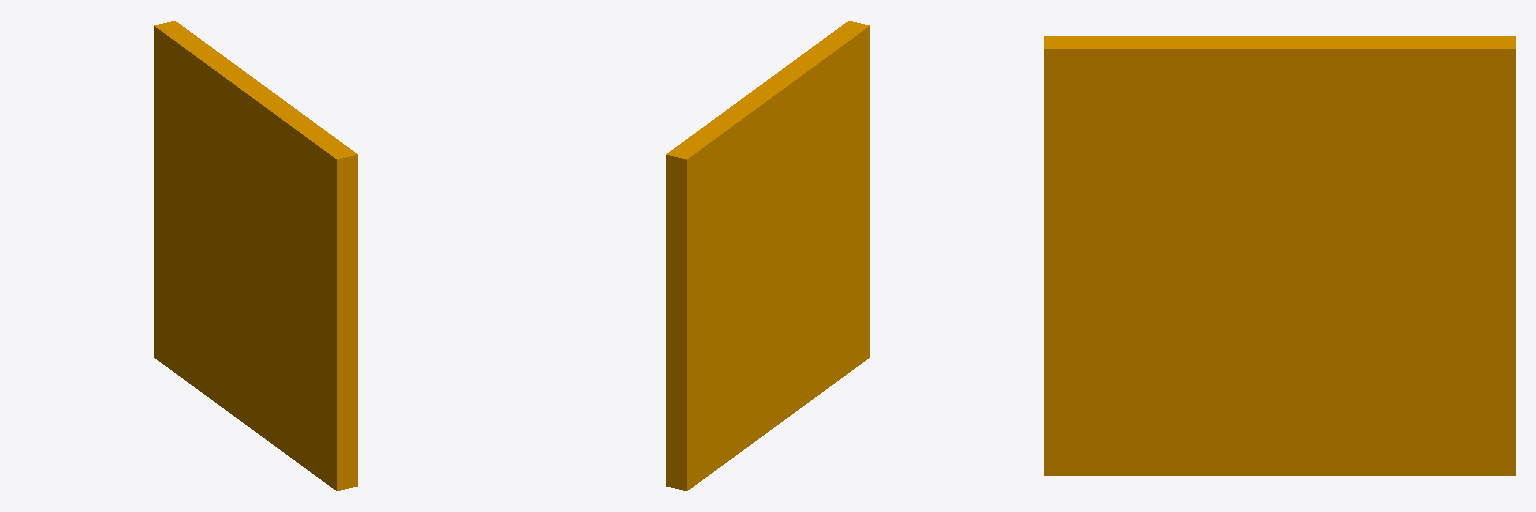
robot.urdf — box:
<?xml version='1.0' encoding='UTF-8'?>
<robot name="box">
  <link name="base_link">
    <inertial>
      <origin xyz="0.0 0.0 0.0" rpy="0.0 -0.0 0.0"/>
      <mass value="1.0"/>
      <inertia ixx="1.0" ixy="0.0" ixz="0.0" iyy="1.0" iyz="0.0" izz="1.0"/>
    </inertial>
    <visual name="base_link_visual">
      <geometry>
        <box size="0.1 1.5 1.5"/>
      </geometry>
      <origin xyz="0 0 0" rpy="0 0 0"/>
    </visual>
    <collision name="base_link_collision">
      <geometry>
        <box size="0.1 1.5 1.5"/>
      </geometry>
      <origin xyz="0 0 0" rpy="0 0 0"/>
    </collision>
  </link>
</robot>

--- What the picture shows (computed from the rendered views, not written in the file) ---
3 views of the same robot in one strip: view 1: azimuth 30°, elevation 25°; view 2: azimuth 150°, elevation 25°; view 3: azimuth 270°, elevation 25° (orthographic).
Model box with 1 links and 0 joints (none), rooted at base_link, posed every joint at zero.
Links seen in each view (by area): view 1: base_link; view 2: base_link; view 3: base_link.
Link boxes in pixels (left/top/right/bottom): base_link: left=154, top=21, right=357, bottom=490; base_link: left=666, top=21, right=869, bottom=490; base_link: left=1044, top=36, right=1515, bottom=475.
Bounding box of the posed robot: 0.1 × 1.5 × 1.5 m (x, y, z).
Geometry: primitives only (box / cylinder / sphere), no mesh files.